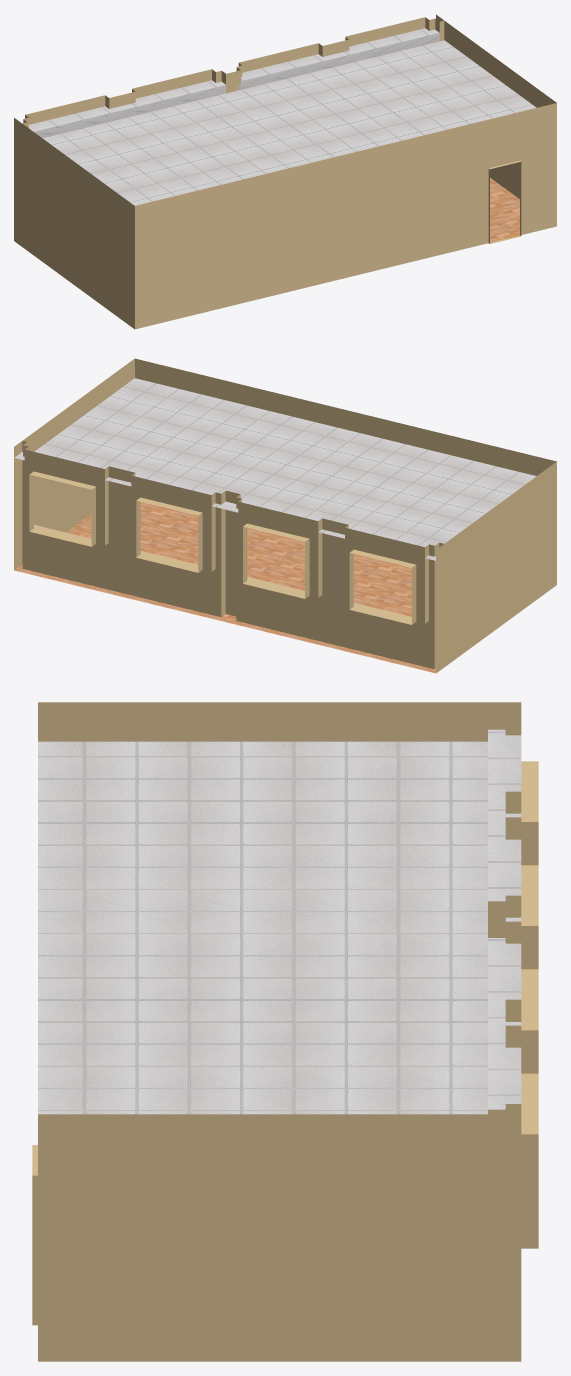
The model's file is room4.glb.
3 views of the same model, one above another, from view 1: azimuth 30°, elevation 25°; view 2: azimuth 150°, elevation 25°; view 3: azimuth 270°, elevation 25° (orthographic). The views are drawn at different scales.
Visible parts, largest first — view 1: 4et.005; view 2: 4et.005; view 3: 4et.005.
Part boxes in pixels (x1=…): 4et.005: x1=14, y1=14, x2=556, y2=329; 4et.005: x1=14, y1=358, x2=556, y2=673; 4et.005: x1=32, y1=702, x2=538, y2=1361.
Bounding box in the file's own units: 11.8 × 3.3 × 6.13.
Materials: 3 (2 with a texture image).
